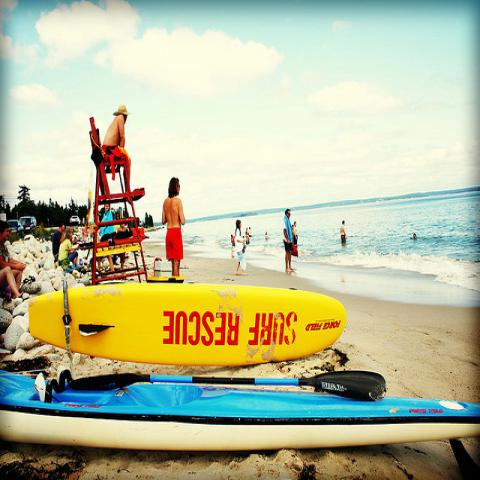car: (19, 216, 38, 230), (6, 219, 23, 232), (69, 215, 82, 226)
